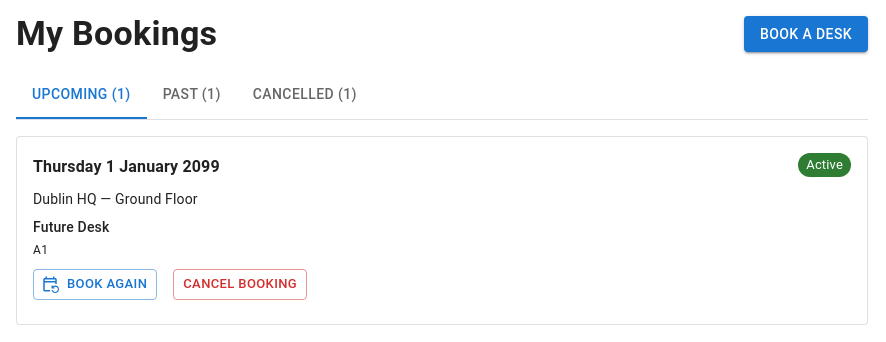
Scenario: MyBookingsPage › splits bookings across Upcoming / Past / Cancelled tabs (PR 070)
This screenshot has width=886, height=342.
Expected: the text "Future Desk" is shown, [33,219,109,235]
Expected: the text "Old Desk" is not shown
Click the tab "Past (1)" at (192, 95), box [147,71,237,119]
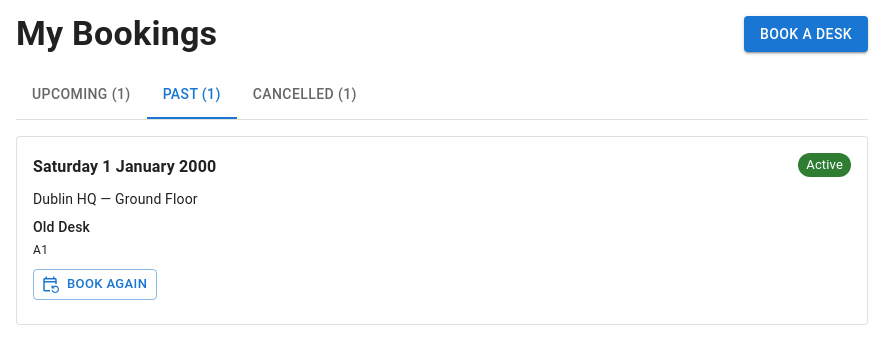
Expected: the text "Old Desk" is shown, [33,219,90,235]
Expected: the text "Future Desk" is gone
Click the tab "Cancelled (1)" at (305, 95), box [237,71,373,119]
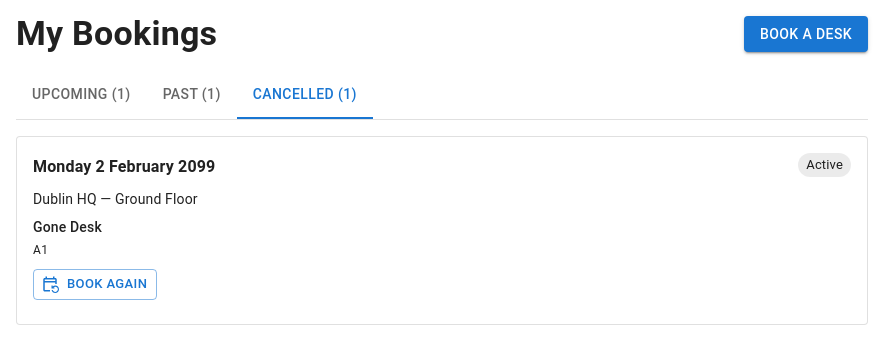
Expected: the text "Gone Desk" is shown, [33,219,102,235]
Expected: the text "Old Desk" is gone
